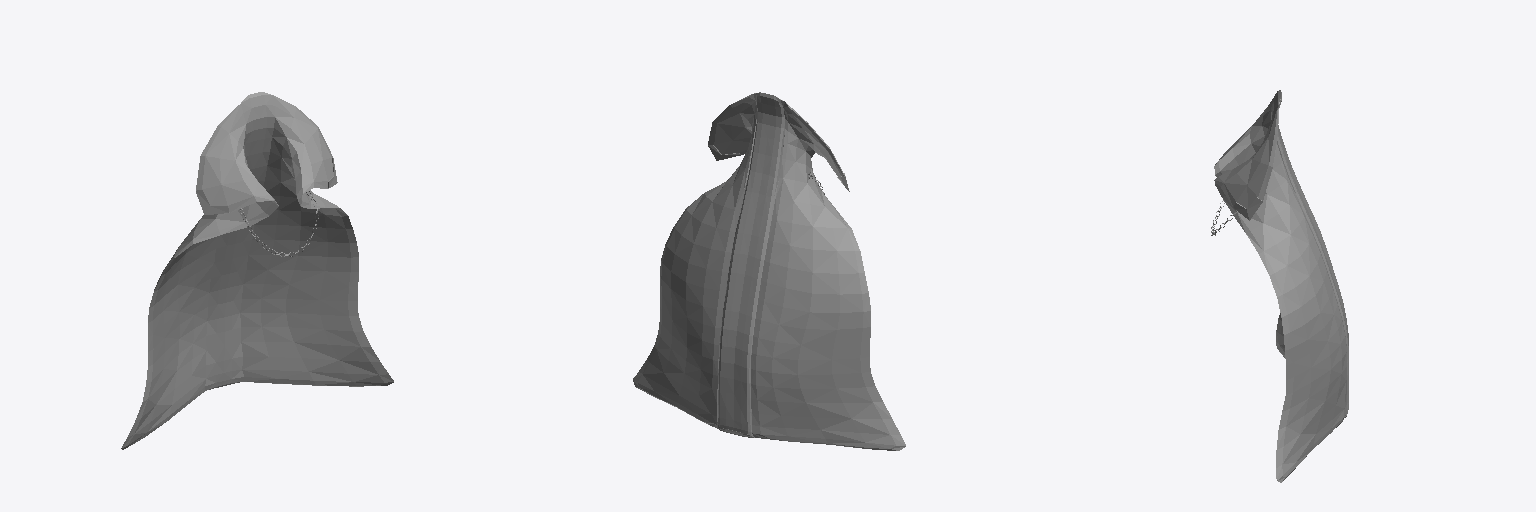
File: cape.obj
The picture shows the model from 3 angles: view 1: azimuth 30°, elevation 25°; view 2: azimuth 150°, elevation 25°; view 3: azimuth 270°, elevation 25°; orthographic projection.
Parts seen in each view (by area): view 1: Cube; view 2: Cube; view 3: Cube.
Part boxes in pixels (left/top/right/bottom): Cube: left=121, top=92, right=393, bottom=449; Cube: left=633, top=92, right=905, bottom=450; Cube: left=1211, top=90, right=1348, bottom=482.
Size of the model in its own units: 9.09 by 10.31 by 3.97.